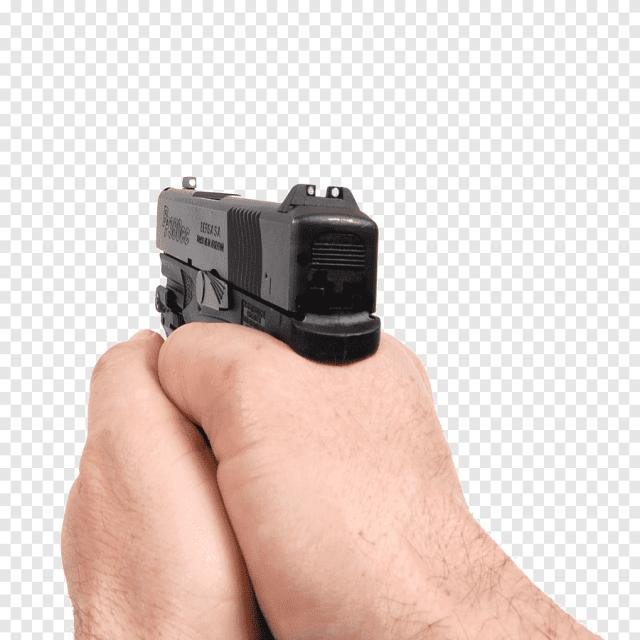HandGun: (155, 184, 383, 368)
